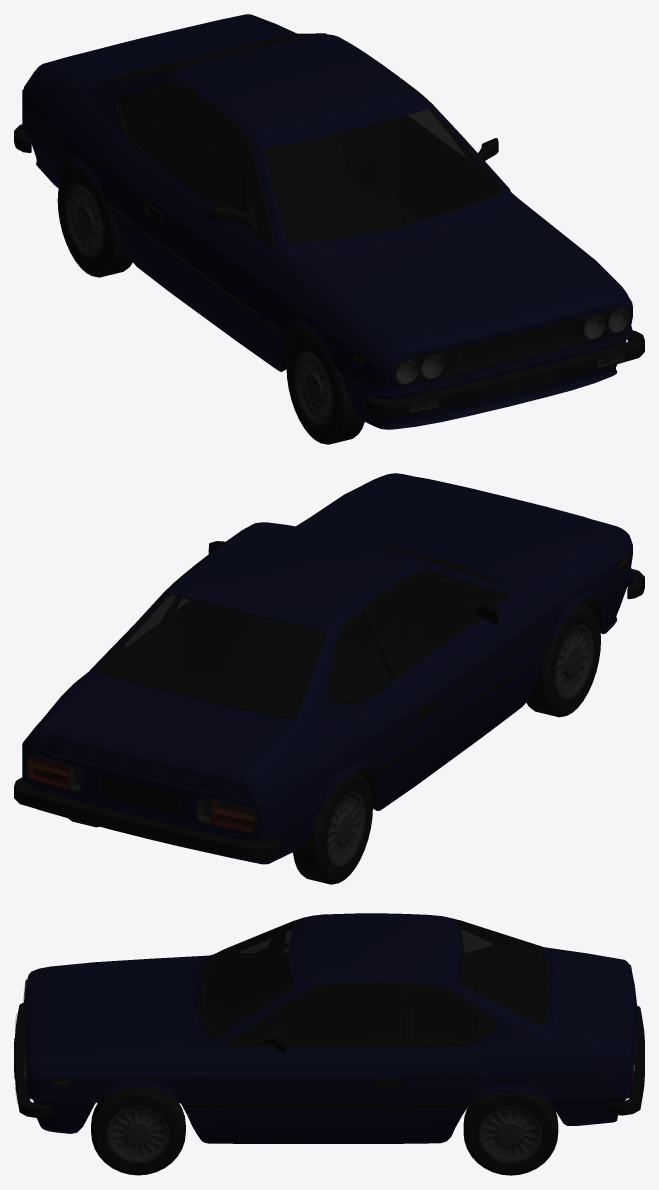
Rendered from LanciaBeta1980-ish.glb.
3 views of the same model, one above another, from view 1: azimuth 30°, elevation 25°; view 2: azimuth 150°, elevation 25°; view 3: azimuth 270°, elevation 25° (orthographic). The views are drawn at different scales.
Visible parts, largest first — view 1: lanciabeta_body, lanciabeta_interiorshell, lanciabeta_windshield, lanciabeta_doors, lanciabeta_doorglass, lanciabeta_wheelFR, lanciabeta_grille, lanciabeta_wheelRR, lanciabeta_bumperF, lanciabeta_quarterglass, lanciabeta_mirrors, lanciabeta_rearglass (+1 smaller); view 2: lanciabeta_body, lanciabeta_interiorshell, lanciabeta_doors, lanciabeta_rearglass, lanciabeta_doorglass, lanciabeta_wheelRR, lanciabeta_bumperR, lanciabeta_wheelFR, lanciabeta_quarterglass, lanciabeta_lpholderR, lanciabeta_windshield, lanciabeta_mirrors (+1 smaller); view 3: lanciabeta_body, lanciabeta_doors, lanciabeta_interiorshell, lanciabeta_doorglass, lanciabeta_windshield, lanciabeta_wheelFL, lanciabeta_wheelRL, lanciabeta_rearglass, lanciabeta_quarterglass, lanciabeta_bumperF, lanciabeta_bumperR, lanciabeta_dornament (+1 smaller).
Part boxes in pixels (box(x1,y1,x2,y2)): lanciabeta_body: box(22, 14, 633, 429); lanciabeta_interiorshell: box(110, 35, 501, 243); lanciabeta_windshield: box(265, 109, 502, 243); lanciabeta_doors: box(142, 96, 494, 355); lanciabeta_doorglass: box(167, 101, 472, 238); lanciabeta_wheelFR: box(286, 330, 364, 444); lanciabeta_grille: box(392, 305, 629, 385); lanciabeta_wheelRR: box(57, 164, 132, 277); lanciabeta_bumperF: box(365, 330, 644, 417); lanciabeta_quarterglass: box(120, 87, 192, 159); lanciabeta_mirrors: box(208, 138, 498, 230); lanciabeta_rearglass: box(106, 34, 316, 80); lanciabeta_body: box(22, 473, 633, 864); lanciabeta_interiorshell: box(99, 544, 500, 716); lanciabeta_doors: box(171, 572, 535, 782); lanciabeta_rearglass: box(99, 595, 323, 716); lanciabeta_doorglass: box(175, 575, 499, 673); lanciabeta_wheelRR: box(293, 771, 372, 884); lanciabeta_bumperR: box(14, 777, 281, 860); lanciabeta_wheelFR: box(526, 603, 600, 717); lanciabeta_quarterglass: box(124, 596, 390, 701); lanciabeta_lpholderR: box(99, 775, 178, 814); lanciabeta_windshield: box(337, 534, 501, 583); lanciabeta_mirrors: box(208, 541, 498, 624); lanciabeta_body: box(24, 913, 637, 1143); lanciabeta_doors: box(209, 942, 408, 1134); lanciabeta_interiorshell: box(198, 921, 545, 1043); lanciabeta_doorglass: box(234, 930, 402, 1044); lanciabeta_windshield: box(197, 921, 295, 1037); lanciabeta_wheelFL: box(91, 1087, 185, 1175); lanciabeta_wheelRL: box(463, 1091, 558, 1175); lanciabeta_rearglass: box(459, 921, 545, 1024); lanciabeta_quarterglass: box(409, 930, 494, 1044); lanciabeta_bumperF: box(14, 1002, 52, 1117); lanciabeta_bumperR: box(607, 1005, 644, 1115); lanciabeta_dornament: box(210, 1104, 407, 1107).
Size of the model in its own units: 1.19 by 0.8786 by 2.76.
Materials: 1 (1 with a texture image).
